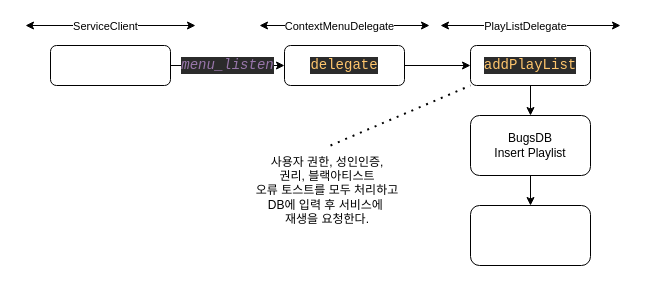
Some shapes in this 647 by 283 pixel diagram are drawn without their labels. Here are the shapes that lost their labels. From the top down, the centre of each, then its label:
At [110,65]: "delegatePlay".
At [530,235]: "StartService".
